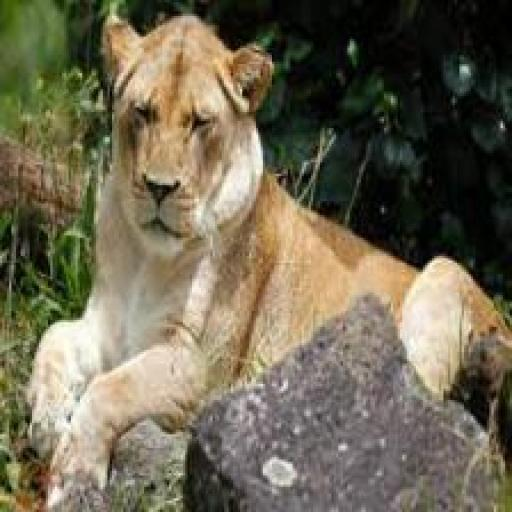lion: (92, 7, 380, 488)
